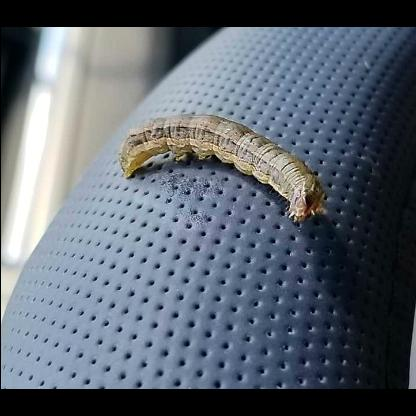Fall Armyworm Larvae: (114, 110, 330, 230)
